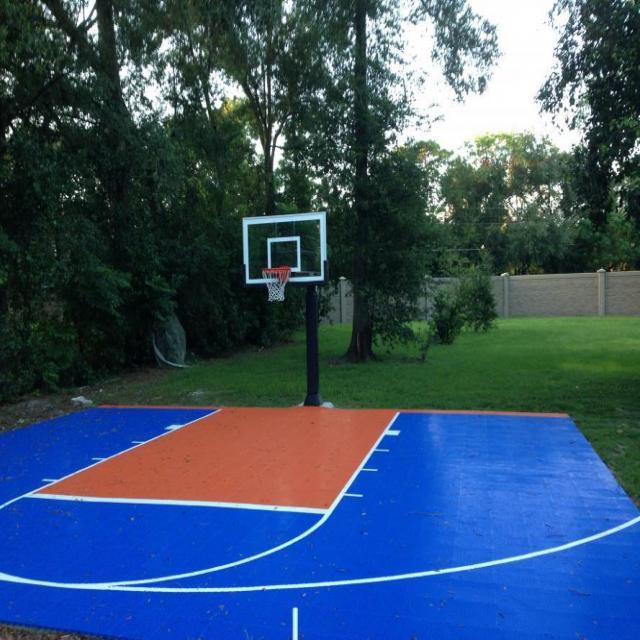hoop: (262, 267, 291, 301)
